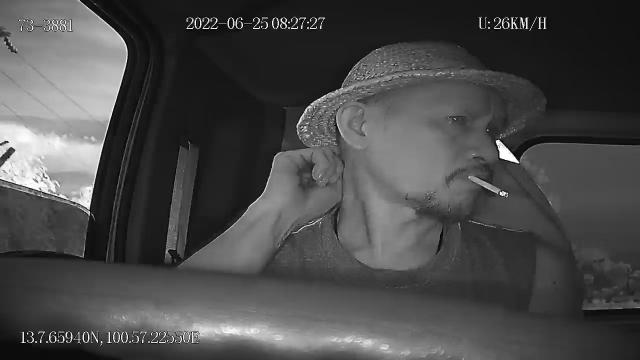Cigarette: (468, 174, 510, 198)
